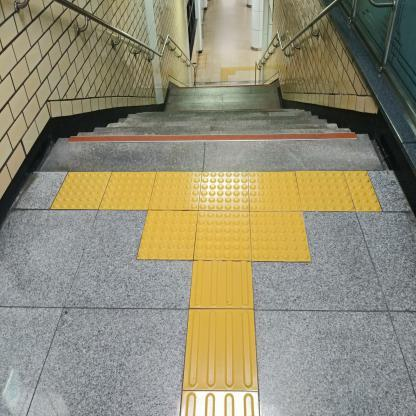podotacti: (46, 164, 389, 415)
